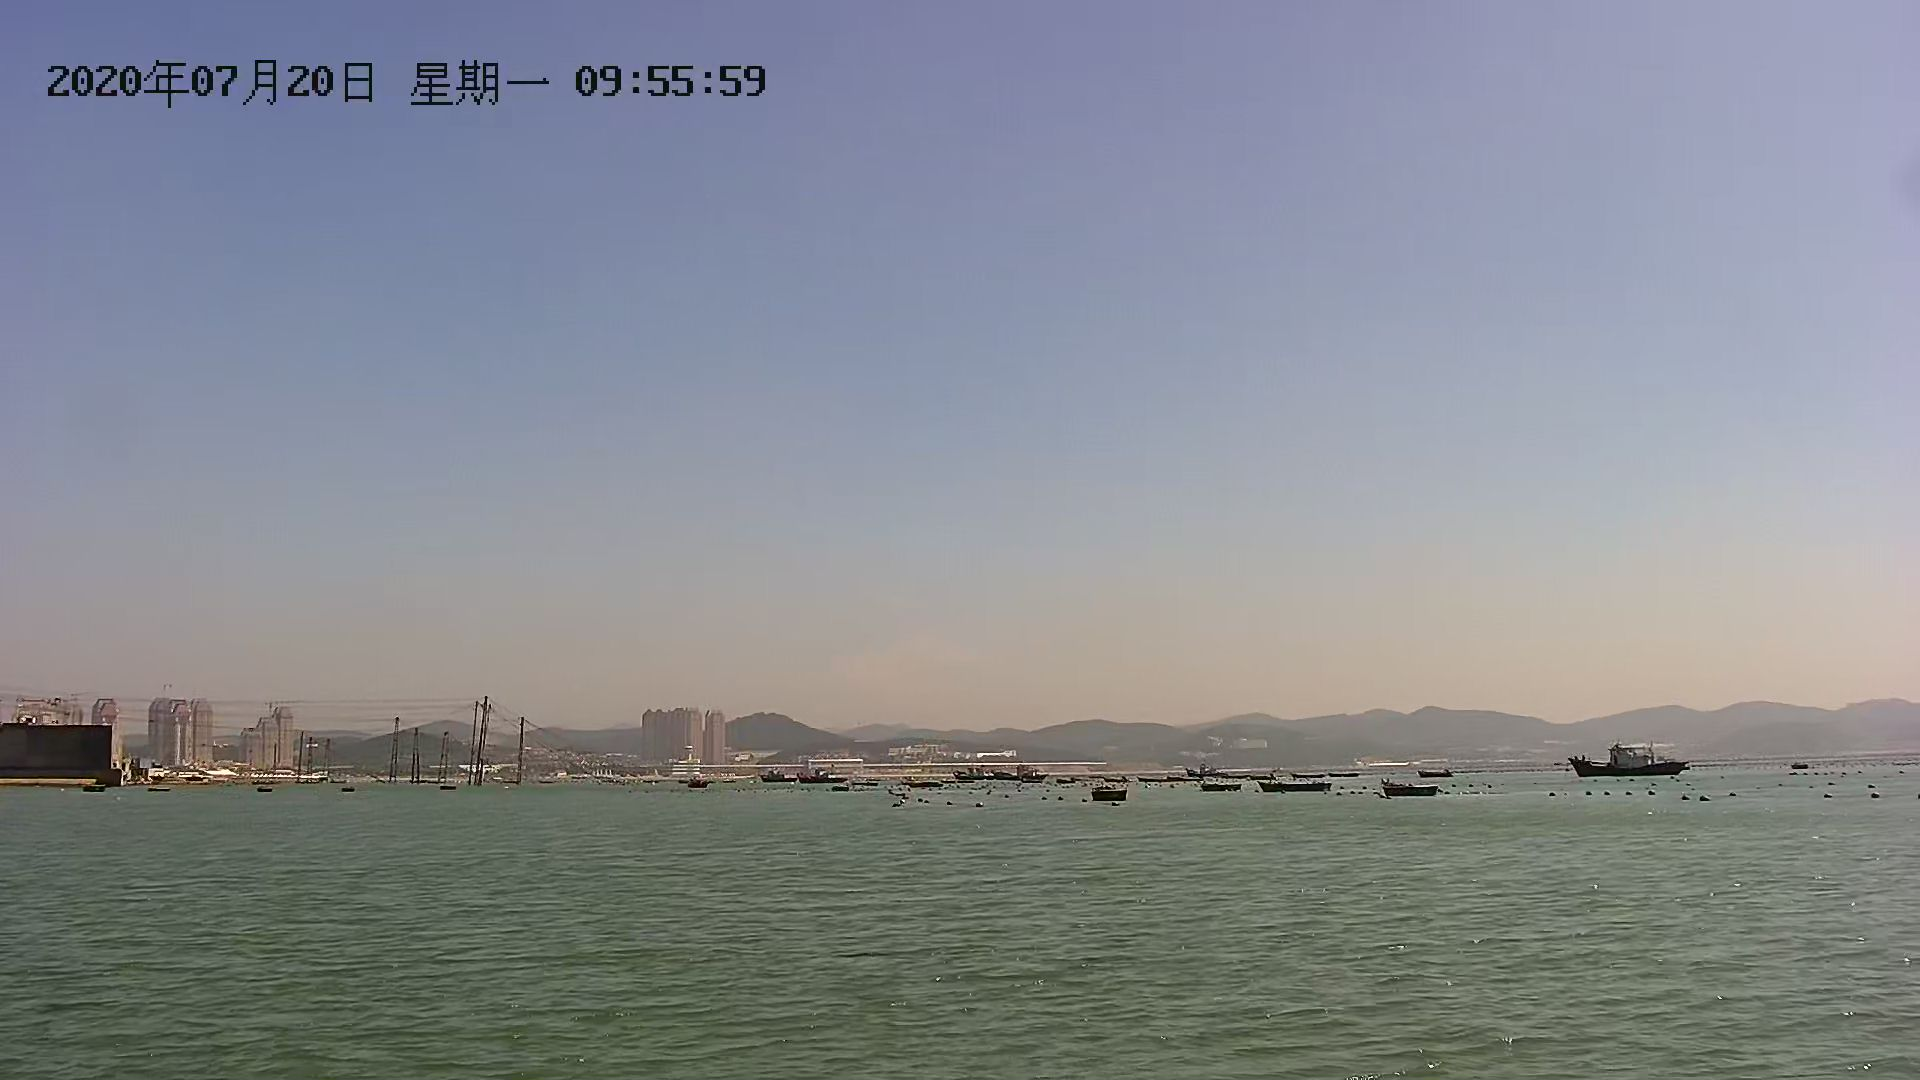boat: (1257, 773, 1342, 799), (1383, 775, 1448, 799), (1091, 781, 1130, 806)
mast: (467, 696, 492, 793), (386, 713, 404, 789)
ship: (1560, 742, 1701, 778)
